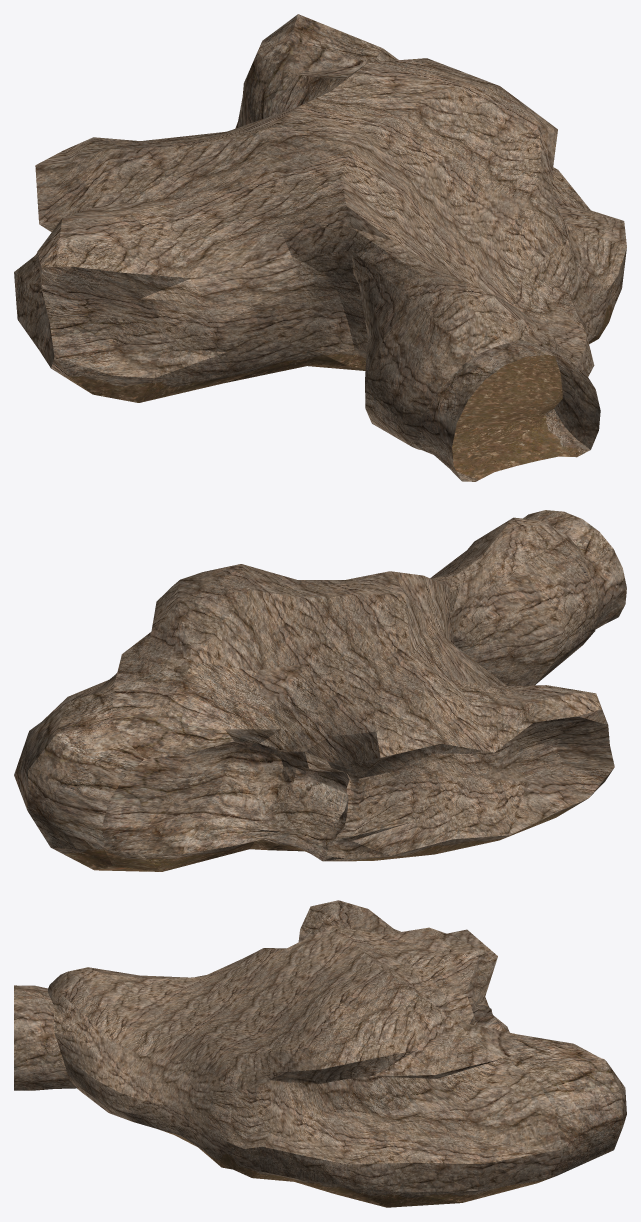
File: CaveRoomEmptyClosed.obj
3 renders of one model, top to bottom at view 1: azimuth 30°, elevation 25°; view 2: azimuth 150°, elevation 25°; view 3: azimuth 270°, elevation 25°, orthographic. The views are drawn at different scales.
Parts seen in each view (by area): view 1: CaveRoomEmptyClosed; view 2: CaveRoomEmptyClosed; view 3: CaveRoomEmptyClosed.
Boxes of the visible parts, left/top/right/bottom form: CaveRoomEmptyClosed: left=14, top=14, right=626, bottom=481; CaveRoomEmptyClosed: left=14, top=510, right=626, bottom=871; CaveRoomEmptyClosed: left=14, top=900, right=626, bottom=1207.
Bounding box in the file's own units: 12.44 × 5.11 × 15.99.
